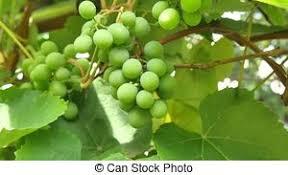grapes: (83, 4, 168, 128), (27, 38, 88, 119)
